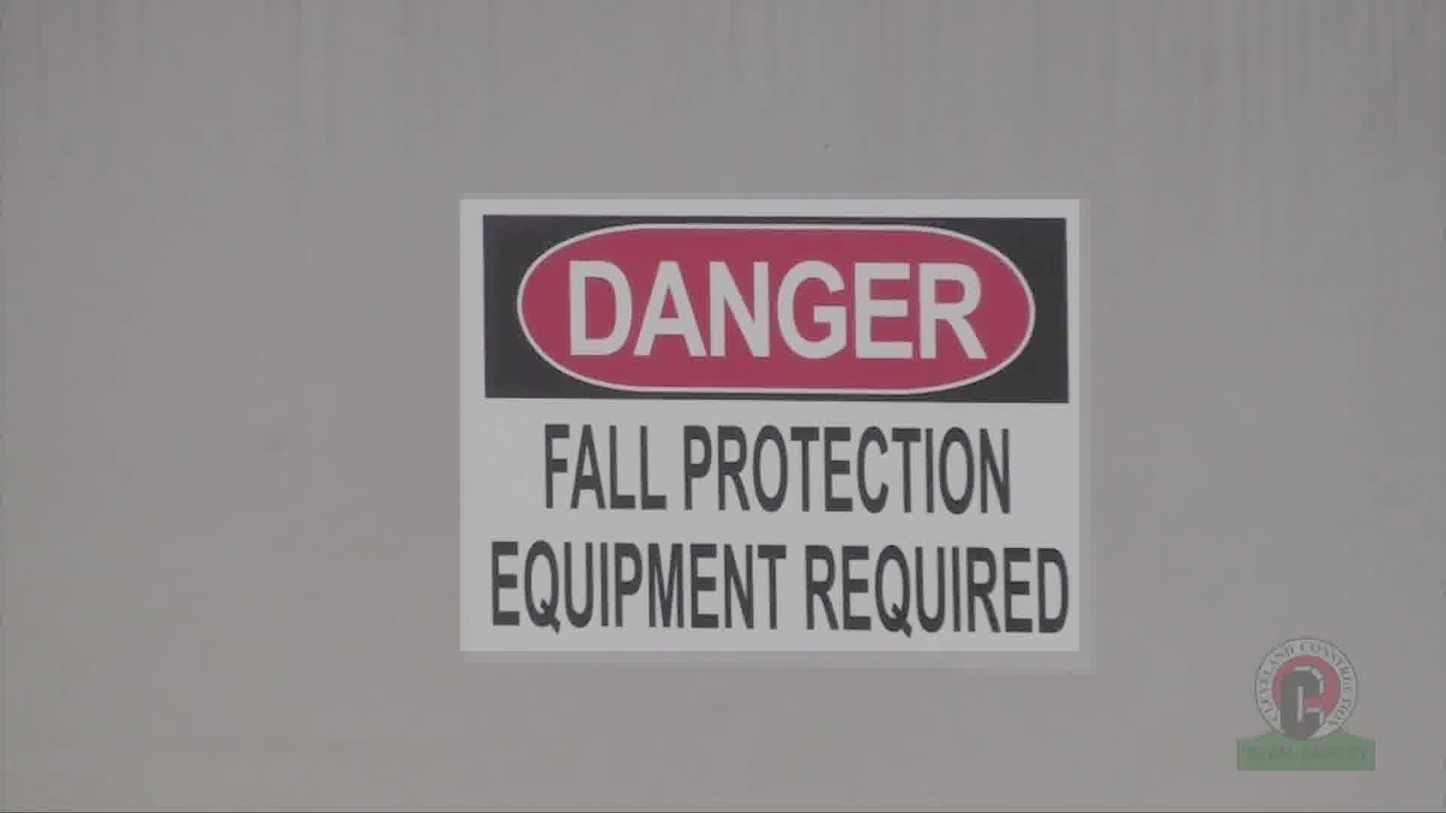safety_signage: (460, 199, 1079, 651)
